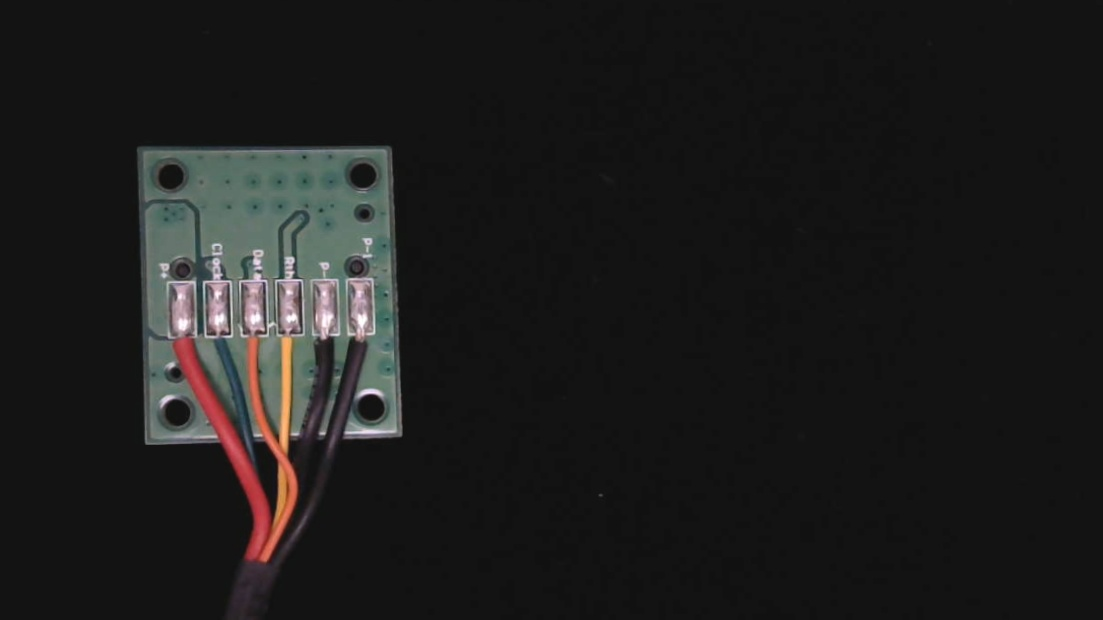Black: (312, 323, 339, 381)
Black1: (348, 322, 376, 375)
Green: (204, 324, 234, 378)
Orange: (239, 325, 268, 382)
Red: (168, 327, 200, 377)
Yellow: (274, 324, 304, 378)
